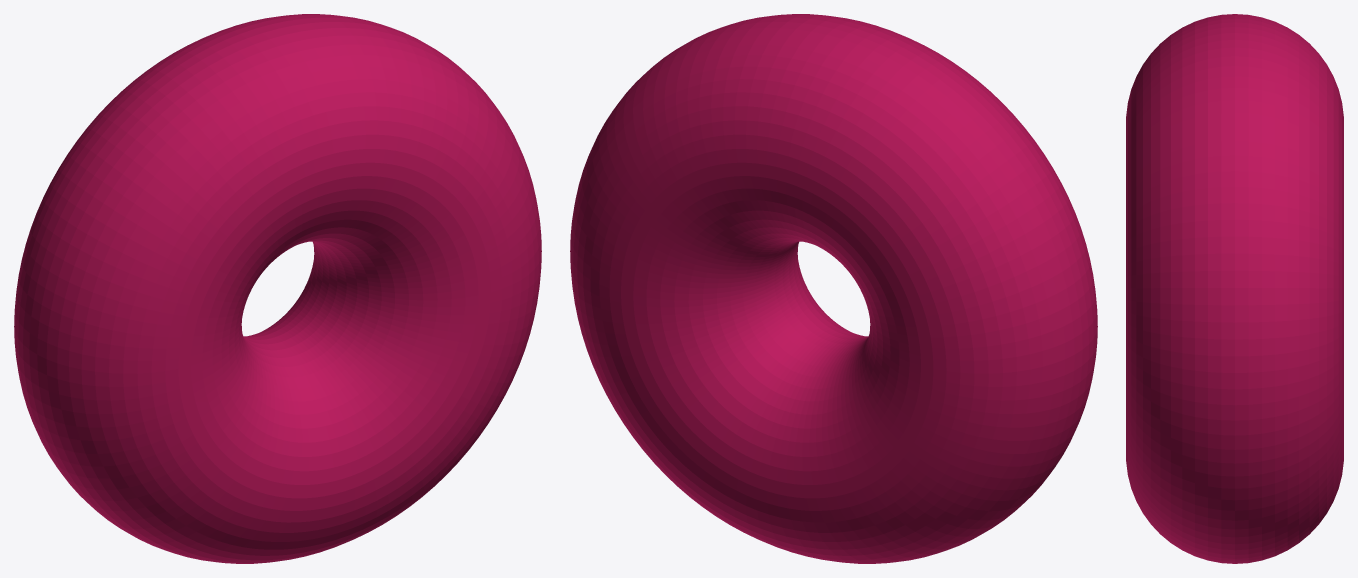
3 renders of one model, left to right at view 1: azimuth 30°, elevation 25°; view 2: azimuth 150°, elevation 25°; view 3: azimuth 270°, elevation 25°, orthographic. The views are drawn at different scales.
Parts seen in each view (by area): view 1: world; view 2: world; view 3: world.
Part boxes in pixels (x1,y1,x2,y2): world: [14, 14, 541, 563]; world: [570, 14, 1097, 563]; world: [1126, 14, 1343, 563].
Bounding box in the file's own units: 23.2 × 23.2 × 9.18.
